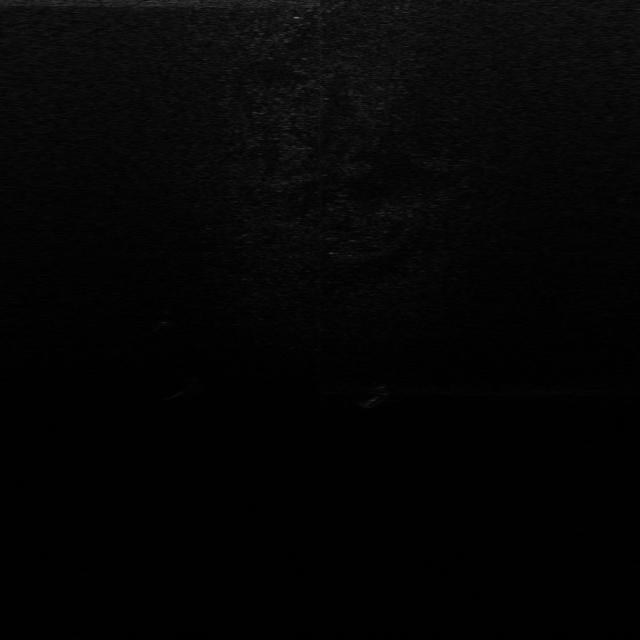ball: (183, 375, 212, 391)
circle cage: (151, 310, 177, 328)
tyre: (359, 386, 388, 409)
